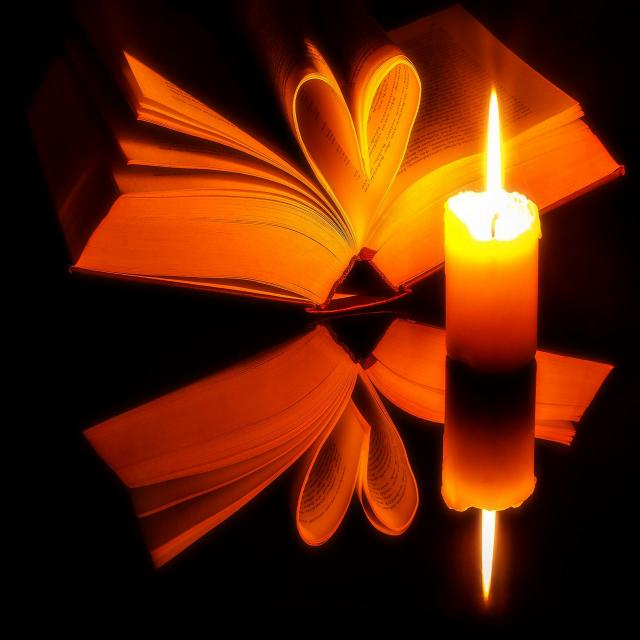Fire_Save: (442, 85, 542, 374)
